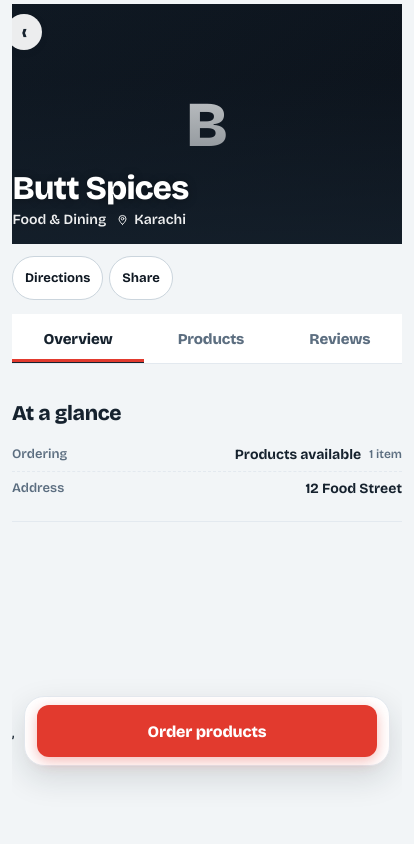
Test: add to cart from business detail › products section carries no image-URL affordances
Step 1. Click the tab "Products" → coordinates (211, 340), box [146,316,276,364]
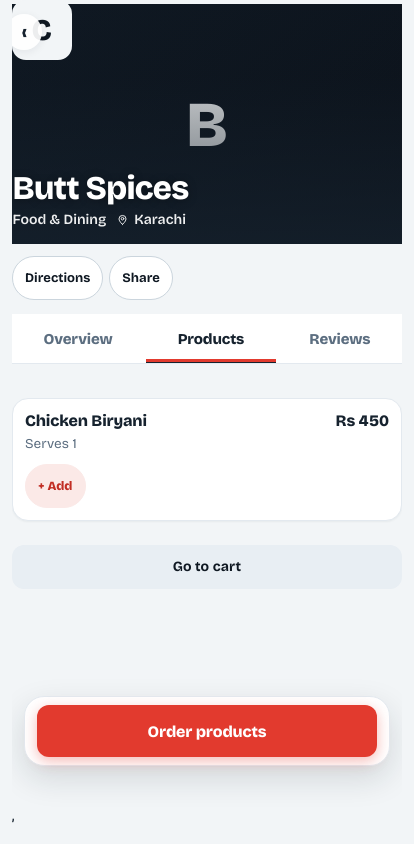
Expected: the text "Chicken Biryani" is shown, [25,410,147,430]
